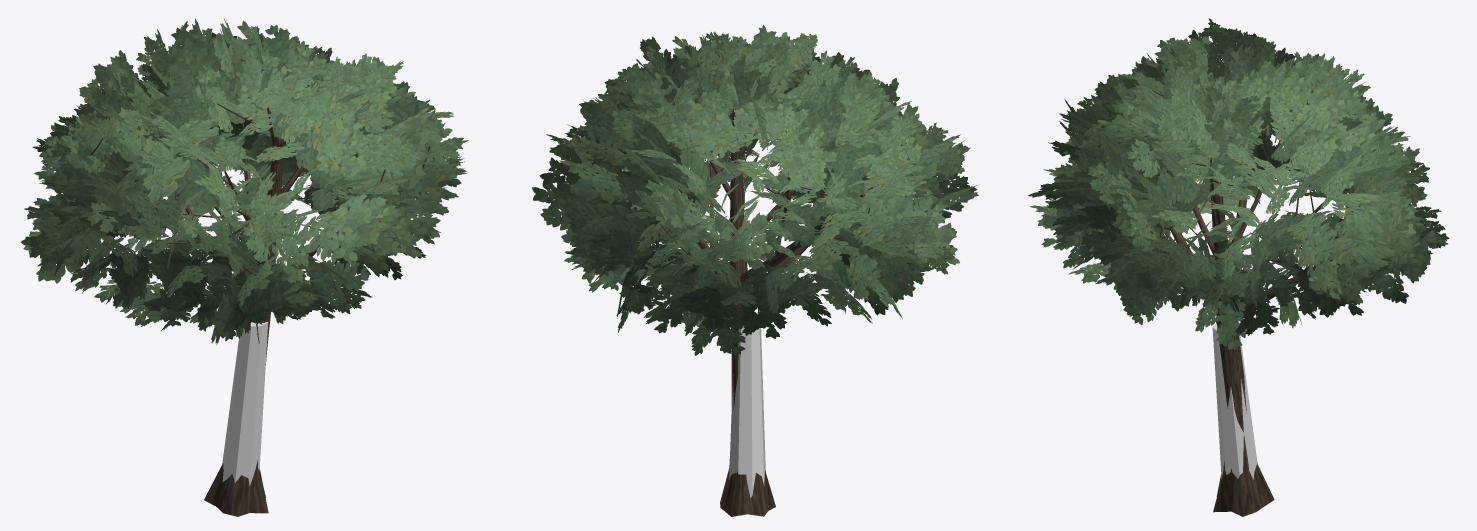
File: plaza_tree_c.gltf
3 views of the same model, side by side, from view 1: azimuth 30°, elevation 25°; view 2: azimuth 150°, elevation 25°; view 3: azimuth 270°, elevation 25° (orthographic). The views are drawn at different scales.
Visible parts, largest first — view 1: plaza_tree_c_LOD0, plaza_tree_c_col; view 2: plaza_tree_c_LOD0, plaza_tree_c_col; view 3: plaza_tree_c_LOD0, plaza_tree_c_col.
Part boxes in pixels (bbox=[...]): plaza_tree_c_LOD0: bbox=[21, 18, 468, 516]; plaza_tree_c_col: bbox=[222, 321, 268, 485]; plaza_tree_c_LOD0: bbox=[532, 25, 979, 516]; plaza_tree_c_col: bbox=[729, 326, 765, 497]; plaza_tree_c_LOD0: bbox=[1028, 18, 1449, 516]; plaza_tree_c_col: bbox=[1212, 323, 1257, 479].
Size of what is drawn, in the model's own units: 5.75 by 6.07 by 5.53.
2 materials, 2 textured.
